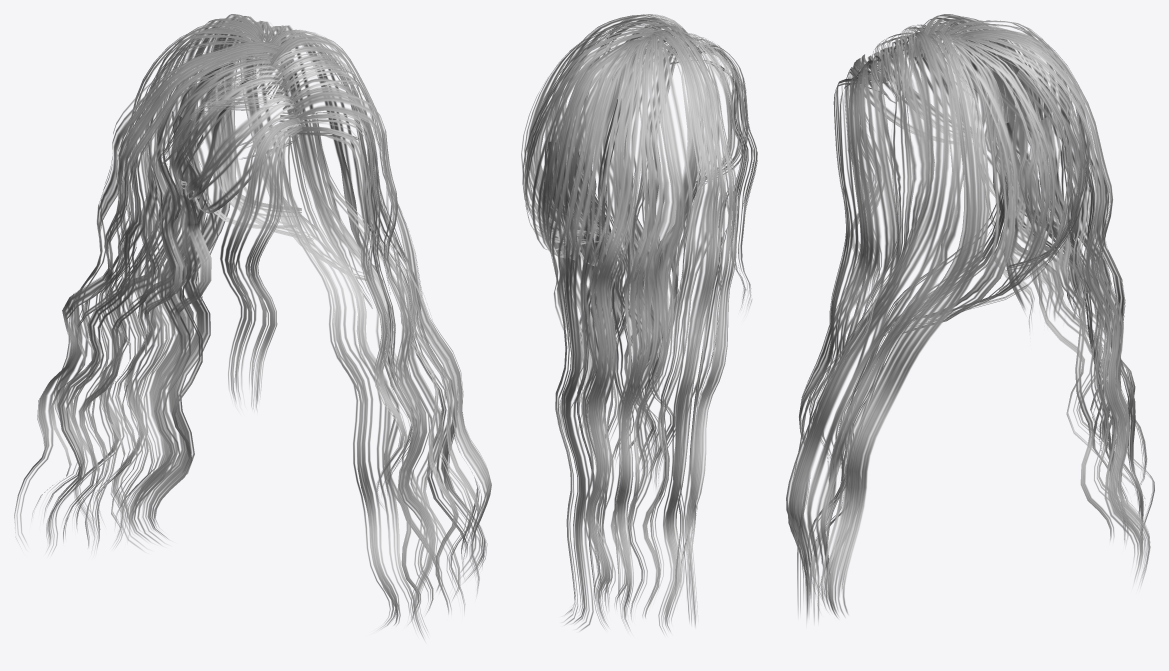
Rendered from 9_wet.glb.
3 views of the same model, side by side, from view 1: azimuth 30°, elevation 25°; view 2: azimuth 150°, elevation 25°; view 3: azimuth 270°, elevation 25° (orthographic). The views are drawn at different scales.
Visible parts, largest first — view 1: Object_7.002, Object_8, Object_9.001; view 2: Object_8, Object_7.002, Object_9.001; view 3: Object_7.002, Object_8, Object_9.001.
Part boxes in pixels (<box>): Object_7.002: <box>32,18,483,624</box>; Object_8: <box>14,14,491,640</box>; Object_9.001: <box>193,47,399,627</box>; Object_8: <box>521,14,746,632</box>; Object_7.002: <box>522,18,753,619</box>; Object_9.001: <box>572,14,757,488</box>; Object_7.002: <box>788,19,1145,618</box>; Object_8: <box>786,14,1154,620</box>; Object_9.001: <box>807,24,1006,597</box>.
Size of the model in its own units: 2.9 by 5.41 by 3.08.
3 materials, 3 textured.
